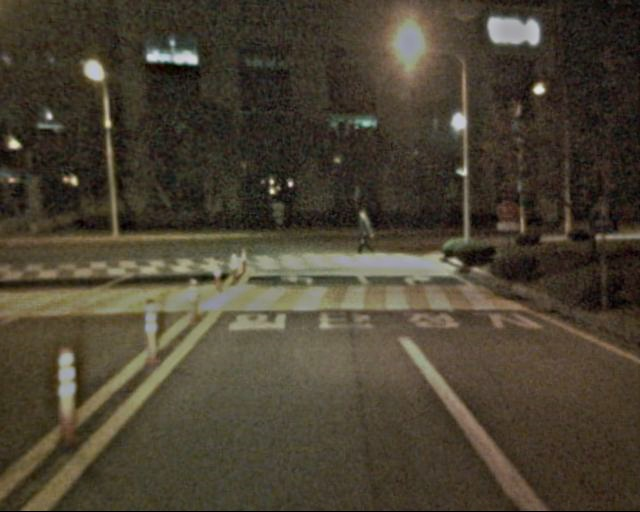person: (355, 212, 377, 266)
